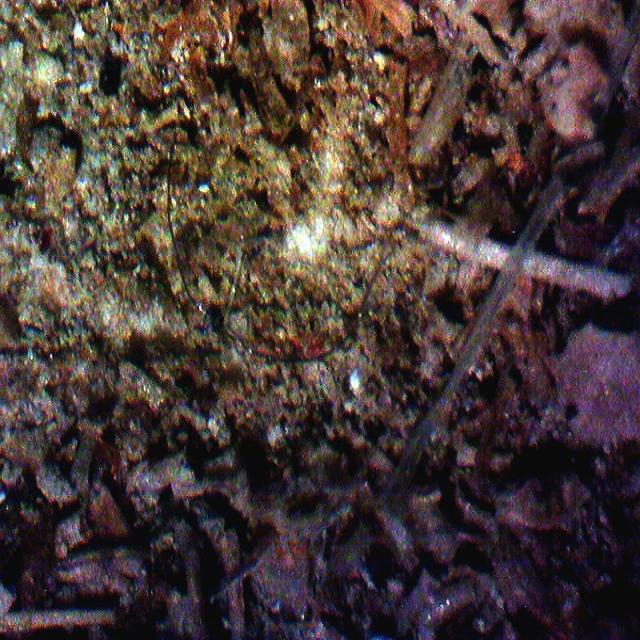microplastic: (231, 253, 392, 363), (167, 147, 206, 317)
